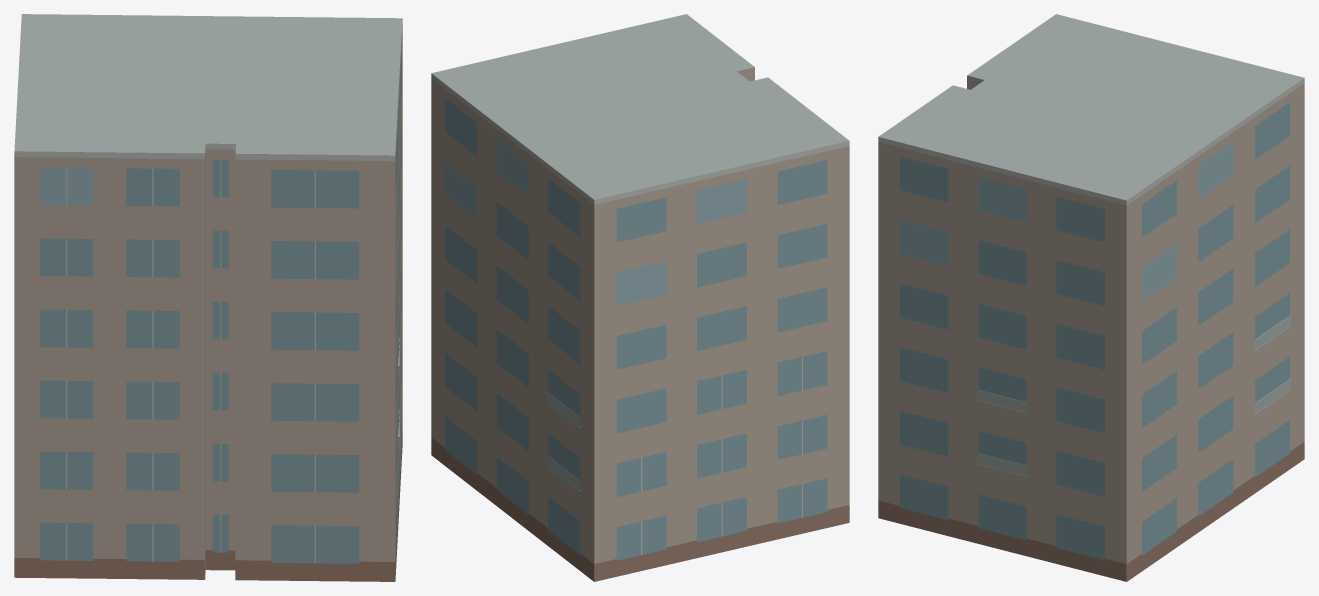
Rendered from survey-upis-32989273.glb.
3 renders of one model, left to right at view 1: azimuth 30°, elevation 25°; view 2: azimuth 150°, elevation 25°; view 3: azimuth 270°, elevation 25°, orthographic. The views are drawn at different scales.
Visible parts, largest first — view 1: survey-upis-32989273.tmp; view 2: survey-upis-32989273.tmp; view 3: survey-upis-32989273.tmp.
Boxes of the visible parts, x1,y1,x2,y2 form: survey-upis-32989273.tmp: (14,14,402,581); survey-upis-32989273.tmp: (431,14,849,581); survey-upis-32989273.tmp: (878,14,1304,581).
Size of the model in its own units: 19.21 by 18.3 by 18.56.
